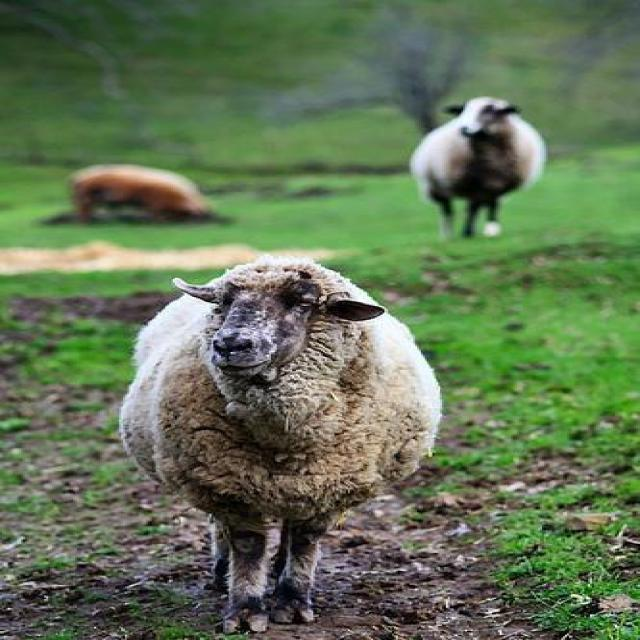Sheep: (117, 264, 456, 632), (409, 94, 546, 240)
